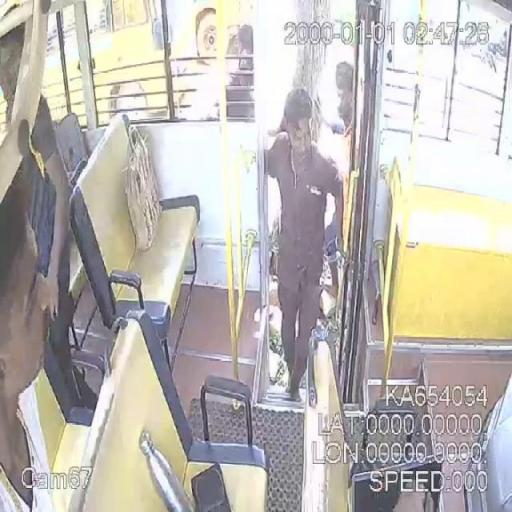persona: (263, 87, 345, 402)
